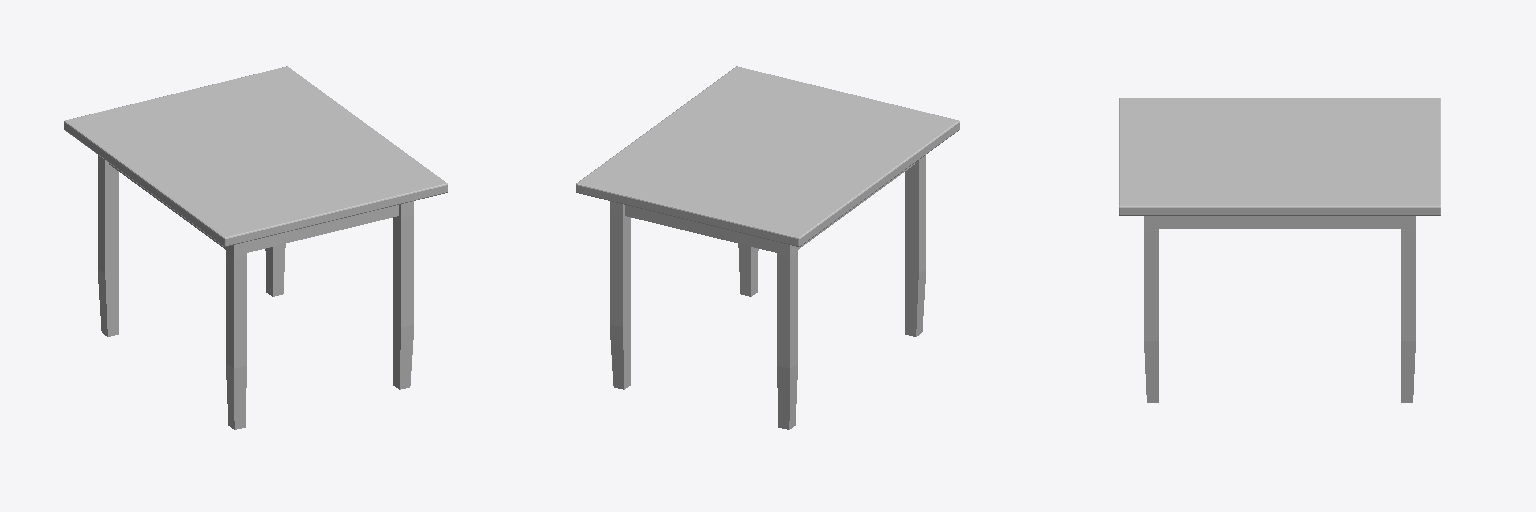
Rendered from table.obj.
The picture shows the model from 3 angles: view 1: azimuth 30°, elevation 25°; view 2: azimuth 150°, elevation 25°; view 3: azimuth 270°, elevation 25°; orthographic projection.
Visible parts, largest first — view 1: table_Plane; view 2: table_Plane; view 3: table_Plane.
Boxes of the visible parts, box(x1,y1,x2,y2) form: table_Plane: box(64, 66, 447, 429); table_Plane: box(576, 66, 959, 429); table_Plane: box(1119, 98, 1440, 402).
Size of the model in its own units: 2.1 by 1.86 by 2.61.